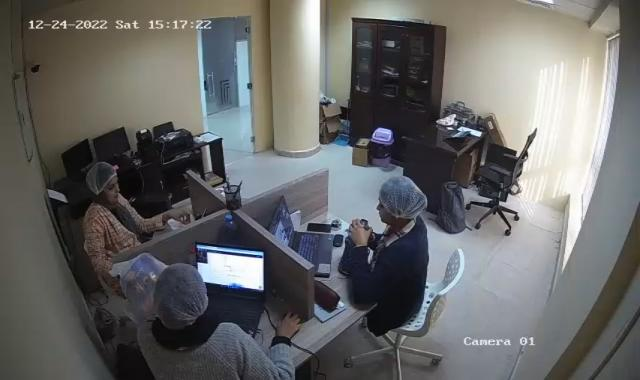hairnet: (152, 262, 209, 326), (378, 172, 427, 225), (85, 162, 120, 204)
